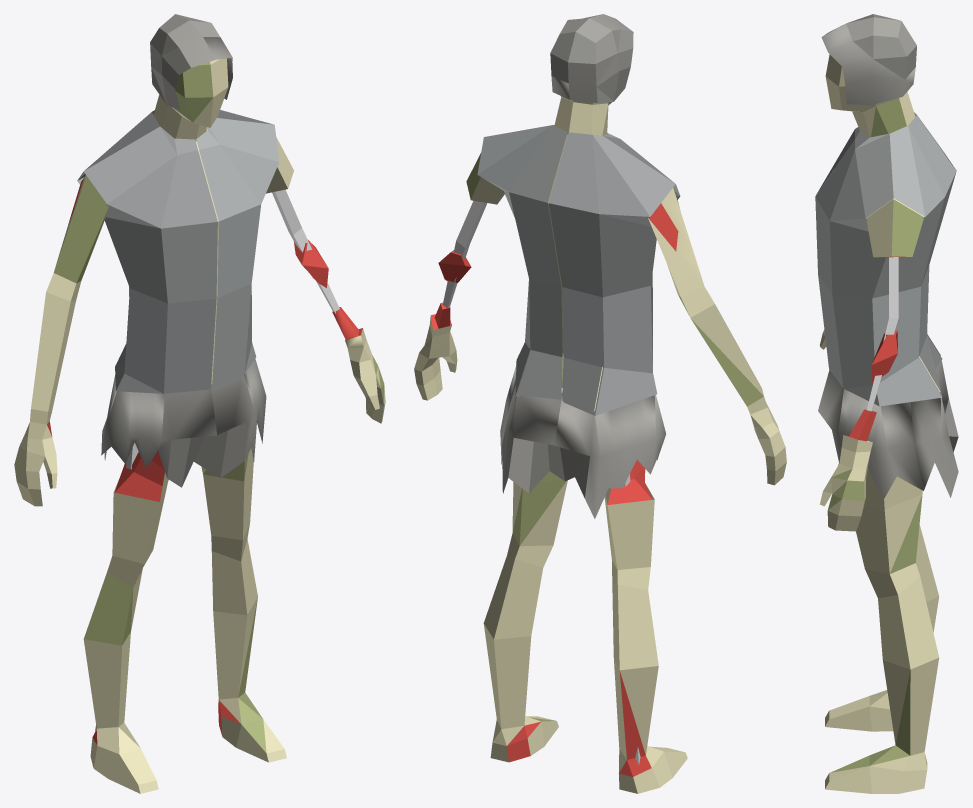
File: fallen templar.glb
3 views of the same model, side by side, from view 1: azimuth 30°, elevation 25°; view 2: azimuth 150°, elevation 25°; view 3: azimuth 270°, elevation 25° (orthographic).
Visible parts, largest first — view 1: Cylinder_Skin_0.001, Cylinder_Skin_0.002, Cylinder_Skin_0.003, skele; view 2: Cylinder_Skin_0.001, Cylinder_Skin_0.002, Cylinder_Skin_0.003, skele; view 3: Cylinder_Skin_0.001, Cylinder_Skin_0.003, skele, Cylinder_Skin_0.002.
Part boxes in pixels (<box>): Cylinder_Skin_0.001: <box>14,14,385,793</box>; Cylinder_Skin_0.002: <box>77,110,217,393</box>; Cylinder_Skin_0.003: <box>196,110,279,388</box>; skele: <box>95,189,339,730</box>; Cylinder_Skin_0.001: <box>414,14,786,793</box>; Cylinder_Skin_0.002: <box>548,132,680,415</box>; Cylinder_Skin_0.003: <box>477,125,567,399</box>; skele: <box>442,200,640,764</box>; Cylinder_Skin_0.001: <box>818,14,958,793</box>; Cylinder_Skin_0.003: <box>815,115,956,406</box>; skele: <box>867,257,898,411</box>; Cylinder_Skin_0.002: <box>815,112,956,368</box>.
Bounding box in the file's own units: 0.8526 × 1.67 × 0.2951.
